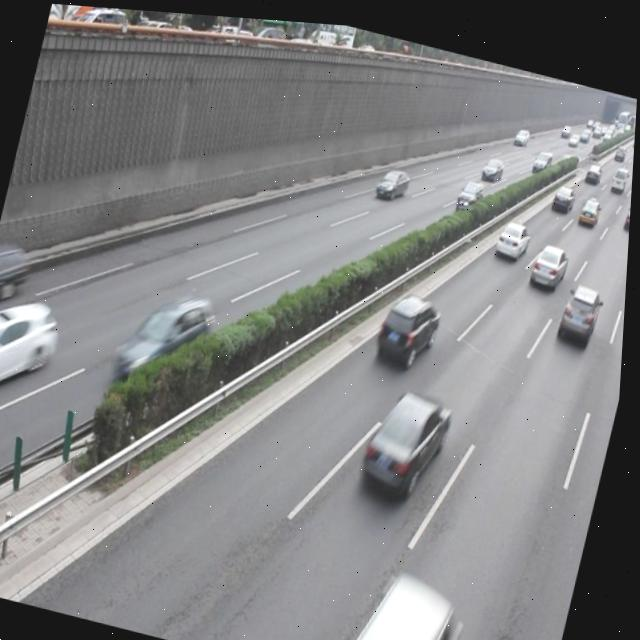car: (113, 275, 224, 397), (361, 373, 459, 498), (0, 284, 69, 412), (374, 280, 446, 364), (558, 270, 606, 336), (530, 231, 573, 283), (495, 208, 534, 254), (376, 156, 412, 196), (456, 170, 485, 208), (522, 636, 565, 640)
truck: (337, 555, 469, 640)
